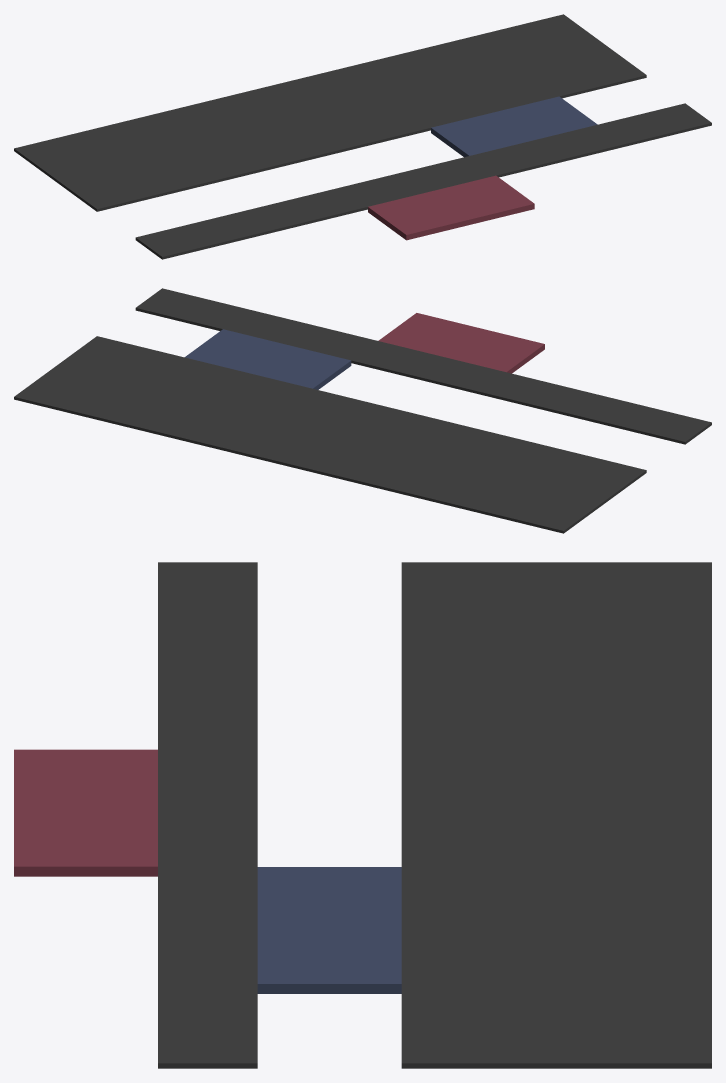
File: FloorR6.fbx
The picture shows the model from 3 angles, top to bottom: view 1: azimuth 30°, elevation 25°; view 2: azimuth 150°, elevation 25°; view 3: azimuth 270°, elevation 25°; orthographic projection. The views are drawn at different scales.
Parts seen in each view (by area): view 1: FloorR6BlueSide, FloorR6Middle, FloorR6Red, FloorR6Blue; view 2: FloorR6BlueSide, FloorR6Middle, FloorR6Blue, FloorR6Red; view 3: FloorR6BlueSide, FloorR6Middle, FloorR6Red, FloorR6Blue.
Boxes of the visible parts, <box> form: FloorR6BlueSide: <box>14,14,646,211</box>; FloorR6Middle: <box>135,103,711,259</box>; FloorR6Red: <box>368,175,534,240</box>; FloorR6Blue: <box>431,96,597,157</box>; FloorR6BlueSide: <box>14,336,646,533</box>; FloorR6Middle: <box>135,288,711,444</box>; FloorR6Blue: <box>185,329,351,389</box>; FloorR6Red: <box>378,313,544,373</box>; FloorR6BlueSide: <box>401,562,711,1068</box>; FloorR6Middle: <box>158,562,257,1068</box>; FloorR6Red: <box>14,749,157,876</box>; FloorR6Blue: <box>257,867,401,993</box>.
Bounding box in the file's own units: 10700 × 100 × 6300.
